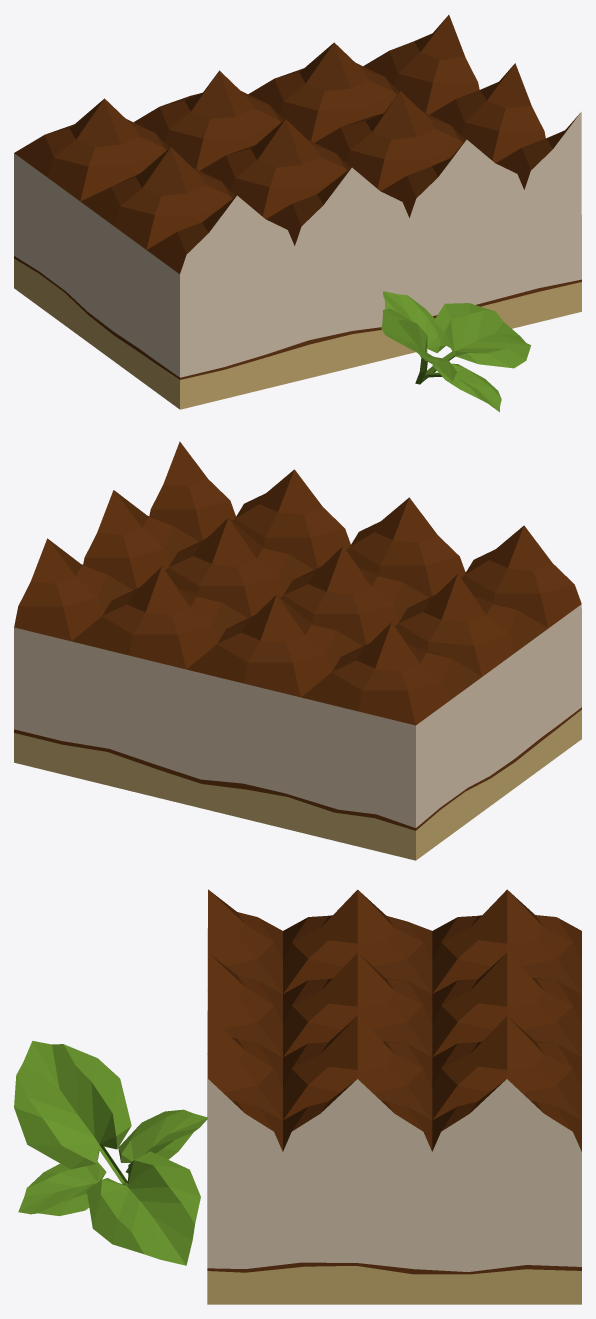
Rendered from TiramisuState0.fbx.
3 views of the same model, one above another, from view 1: azimuth 30°, elevation 25°; view 2: azimuth 150°, elevation 25°; view 3: azimuth 270°, elevation 25° (orthographic). The views are drawn at different scales.
Visible parts, largest first — view 1: TiramisuState0; view 2: TiramisuState0; view 3: TiramisuState0.
Boxes of the visible parts, x1,y1,x2,y2 form: TiramisuState0: (14,15,581,412); TiramisuState0: (14,441,581,860); TiramisuState0: (14,889,581,1304).
Size of the model in its own units: 93.32 by 44.53 by 101.
